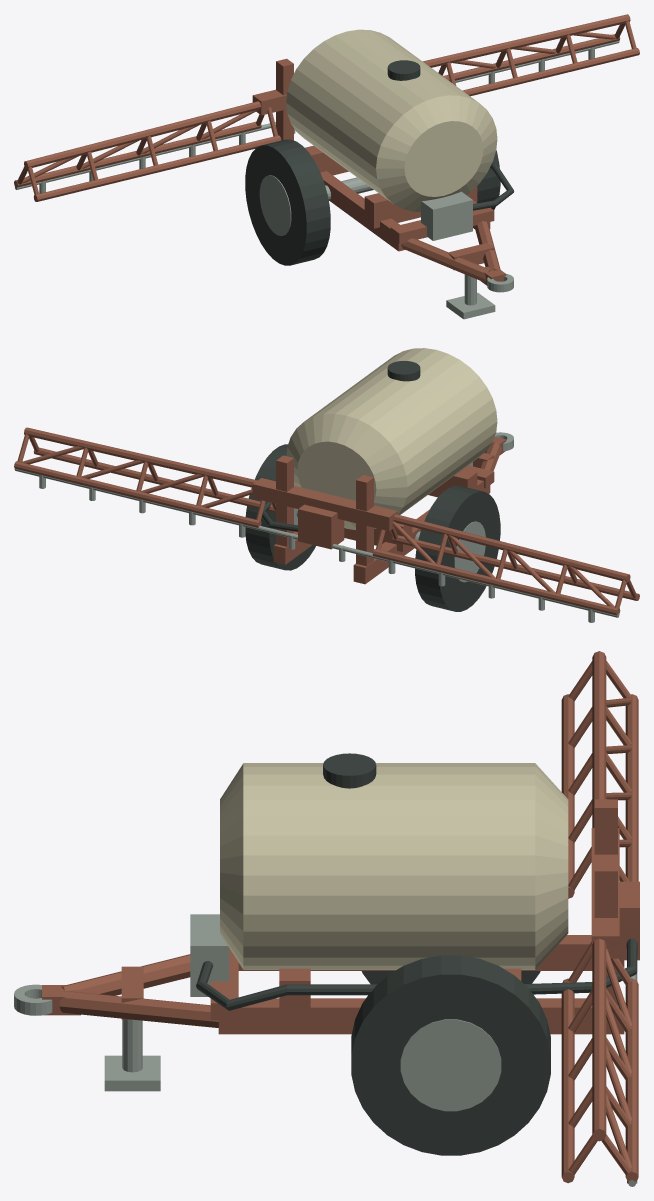
3 renders of one model, top to bottom at view 1: azimuth 30°, elevation 25°; view 2: azimuth 150°, elevation 25°; view 3: azimuth 270°, elevation 25°, orthographic. The views are drawn at different scales.
Visible parts, largest first — view 1: WholeLongOvalTankExterior, WholeGroundedWheel-1, WholeBoomUpperChord-1, WholeBoomFrontLowerChord-1, WholeFrontPumpHousing, WholeBoomUpperChord1, WholeBoomRearLowerChord-1, WholeChassisRail-1, WholeWheelOuterRim-1, WholeBoomFrontLowerChord1, WholeDiagonalDrawbar-1, WholeTankCrossSaddle0 (+12 smaller); view 2: WholeLongOvalTankExterior, WholeGroundedWheel-1, WholeRearBoomCrossbeam, WholeGroundedWheel1, WholeBoomUpperChord-1, WholeBoomRearLowerChord1, WholeBoomUpperChord1, WholeBoomRearLowerChord-1, WholeBoomDistributionLine, WholeCentralManifoldMount, WholeBoomFrontLowerChord-1, WholeBoomFrontLowerChord1 (+8 smaller); view 3: WholeLongOvalTankExterior, WholeGroundedWheel1, WholeWheelOuterRim1, WholeChassisRail1, WholeContinuousExteriorFeedHose, WholeDiagonalDrawbar1, WholeBoomUpperChord1, WholeBoomFrontLowerChord1, WholeFrontPumpHousing, WholeBoomRearLowerChord1, WholeBoomUpperChord-1, WholeBoomRearLowerChord-1 (+14 smaller).
Boxes of the visible parts, x1,y1,x2,y2 form: WholeLongOvalTankExterior: [286, 29, 497, 211]; WholeGroundedWheel-1: [245, 139, 330, 265]; WholeBoomUpperChord-1: [24, 101, 260, 169]; WholeBoomFrontLowerChord-1: [33, 135, 281, 201]; WholeFrontPumpHousing: [421, 191, 472, 240]; WholeBoomUpperChord1: [423, 14, 630, 67]; WholeBoomRearLowerChord-1: [14, 121, 261, 187]; WholeChassisRail-1: [320, 171, 405, 251]; WholeWheelOuterRim-1: [259, 175, 291, 235]; WholeBoomFrontLowerChord1: [462, 48, 639, 96]; WholeDiagonalDrawbar-1: [401, 238, 491, 282]; WholeTankCrossSaddle0: [364, 186, 477, 228]; WholeLongOvalTankExterior: [286, 348, 497, 529]; WholeGroundedWheel-1: [415, 485, 500, 611]; WholeRearBoomCrossbeam: [252, 478, 397, 531]; WholeGroundedWheel1: [245, 444, 315, 570]; WholeBoomUpperChord-1: [393, 514, 630, 582]; WholeBoomRearLowerChord1: [14, 461, 261, 527]; WholeBoomUpperChord1: [24, 427, 257, 487]; WholeBoomRearLowerChord-1: [372, 549, 620, 615]; WholeBoomDistributionLine: [14, 468, 619, 617]; WholeCentralManifoldMount: [298, 504, 344, 549]; WholeBoomFrontLowerChord-1: [392, 535, 639, 600]; WholeBoomFrontLowerChord1: [33, 447, 275, 512]; WholeLongOvalTankExterior: [220, 763, 568, 969]; WholeGroundedWheel1: [351, 955, 550, 1155]; WholeWheelOuterRim1: [400, 1019, 501, 1111]; WholeChassisRail1: [218, 998, 624, 1034]; WholeContinuousExteriorFeedHose: [196, 938, 637, 1010]; WholeDiagonalDrawbar1: [59, 991, 218, 1027]; WholeBoomUpperChord1: [592, 938, 606, 1141]; WholeBoomFrontLowerChord1: [561, 978, 574, 1183]; WholeFrontPumpHousing: [190, 914, 229, 996]; WholeBoomRearLowerChord1: [625, 978, 638, 1181]; WholeBoomUpperChord-1: [592, 651, 606, 827]; WholeBoomRearLowerChord-1: [625, 694, 638, 881].
Size of the model in its own units: 7.24 by 2.22 by 4.01.
